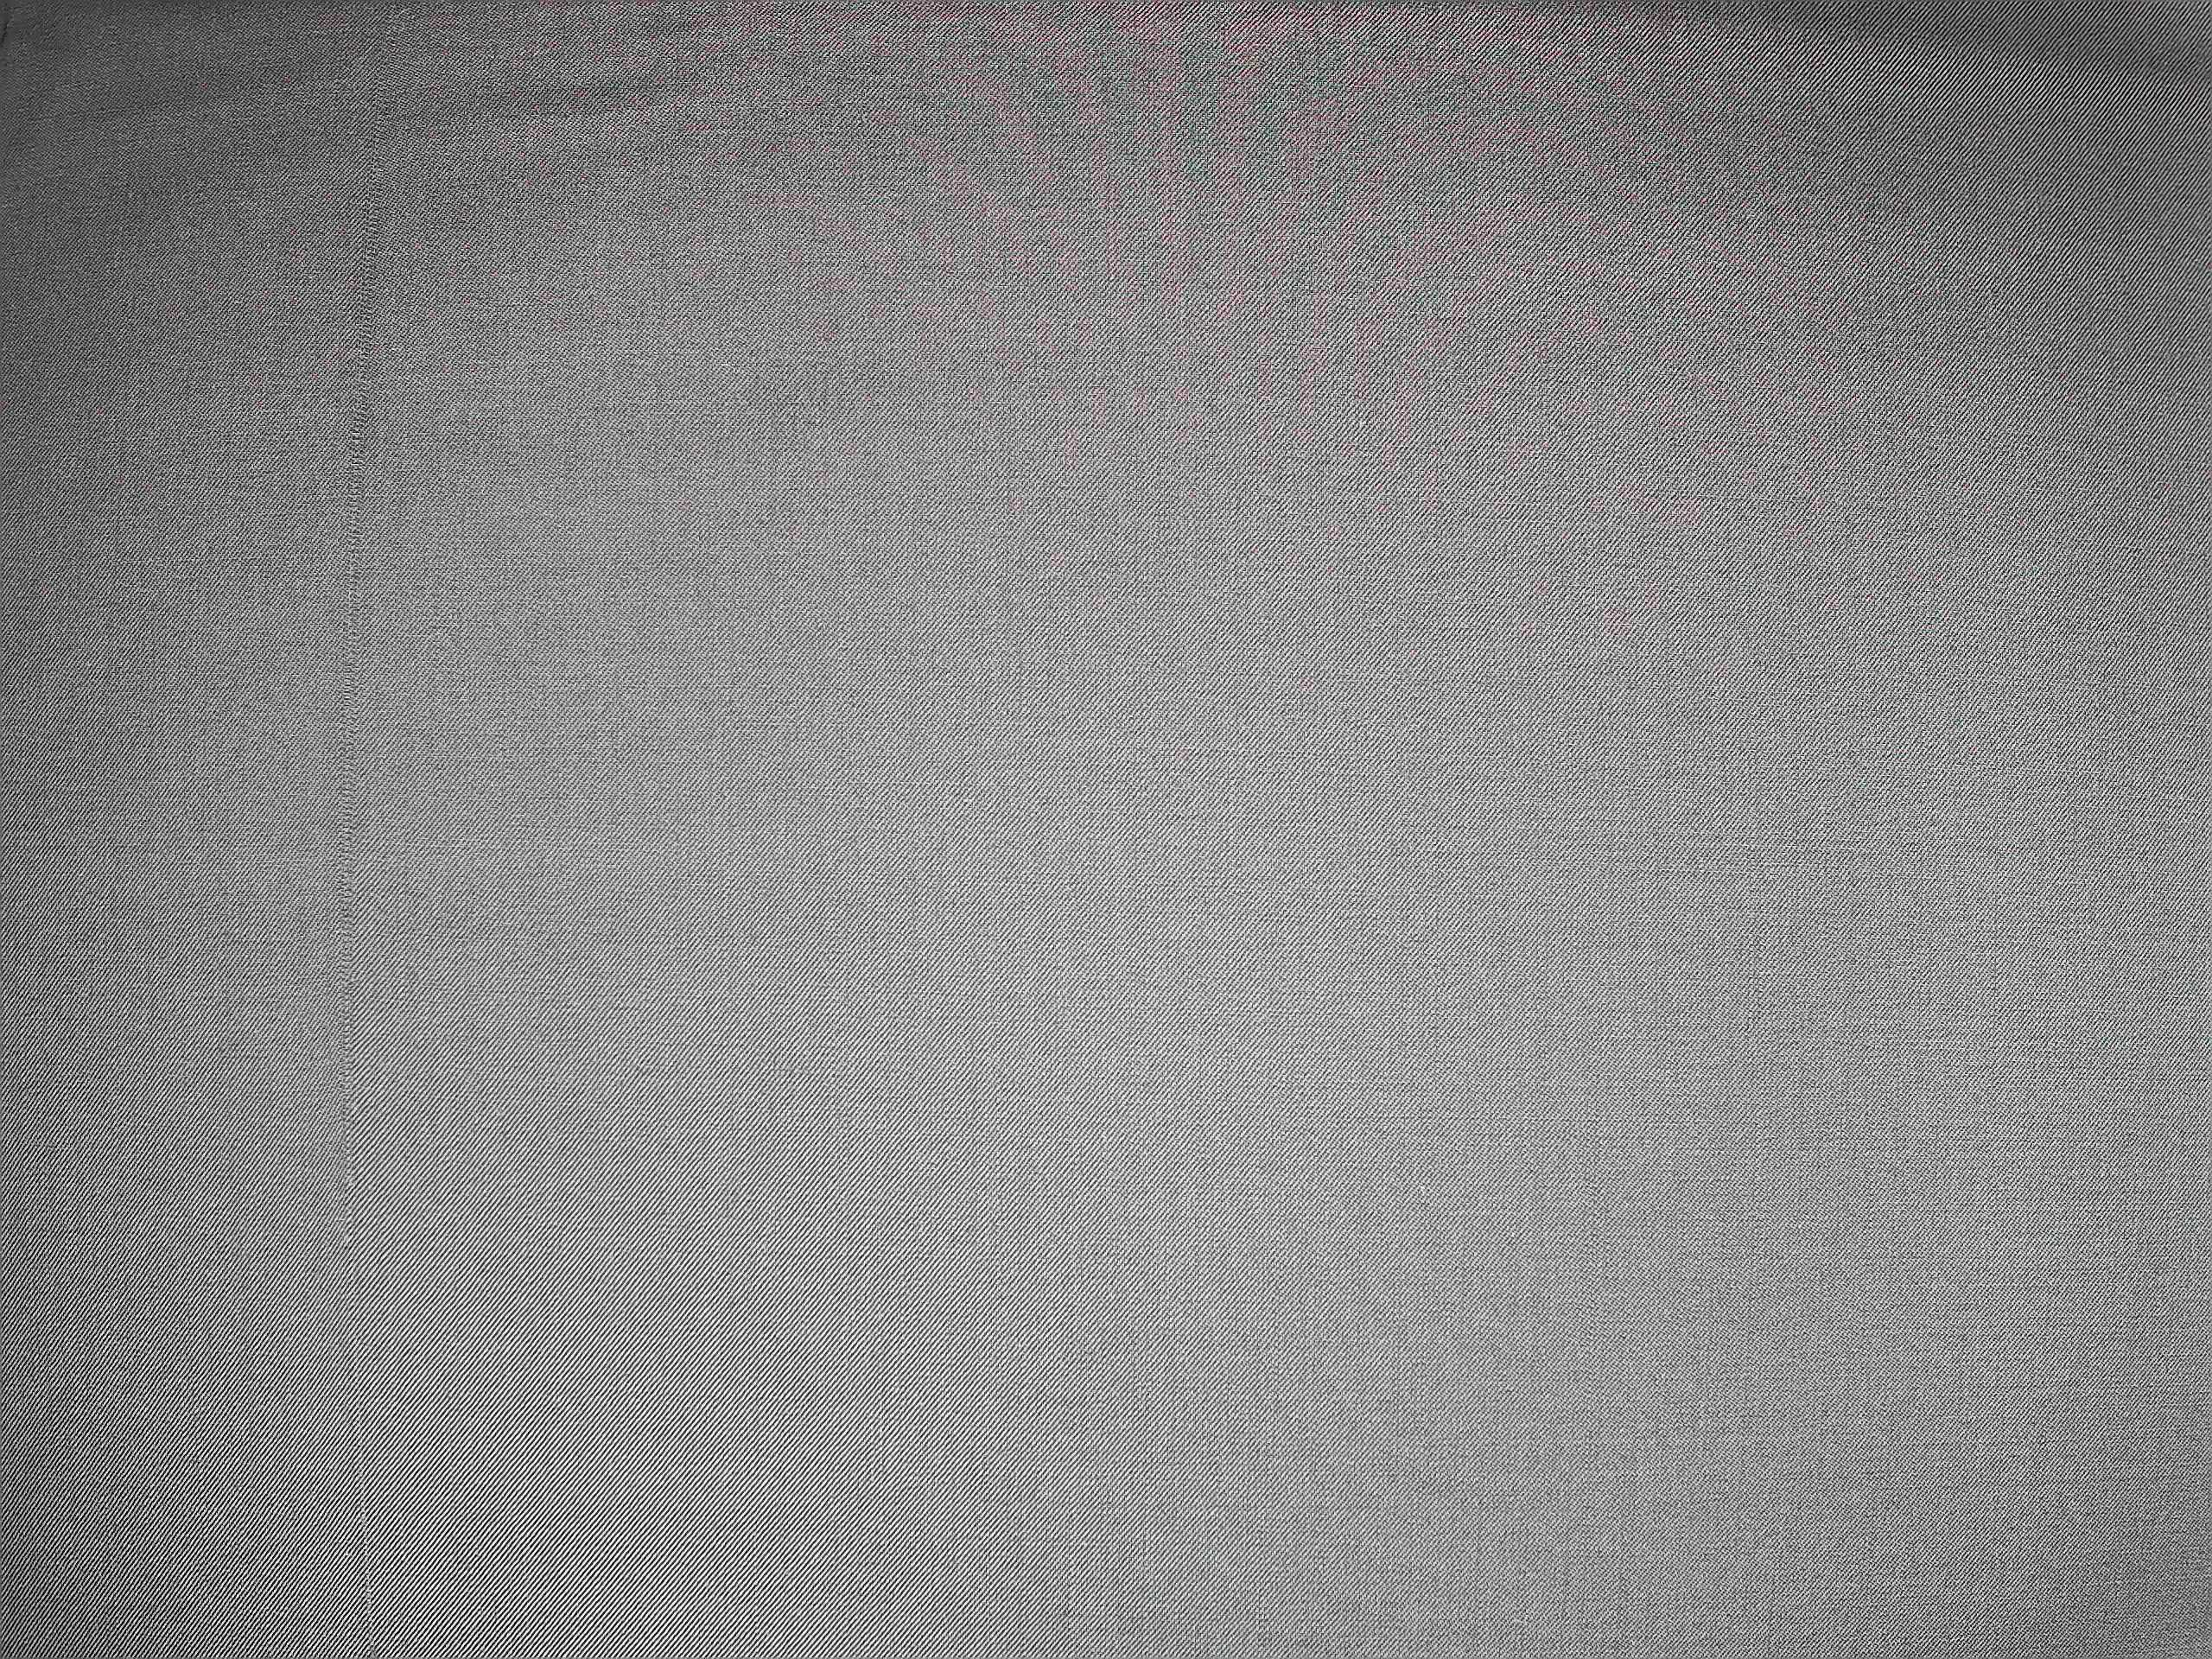hanging-warp: (326, 7, 411, 1654)
